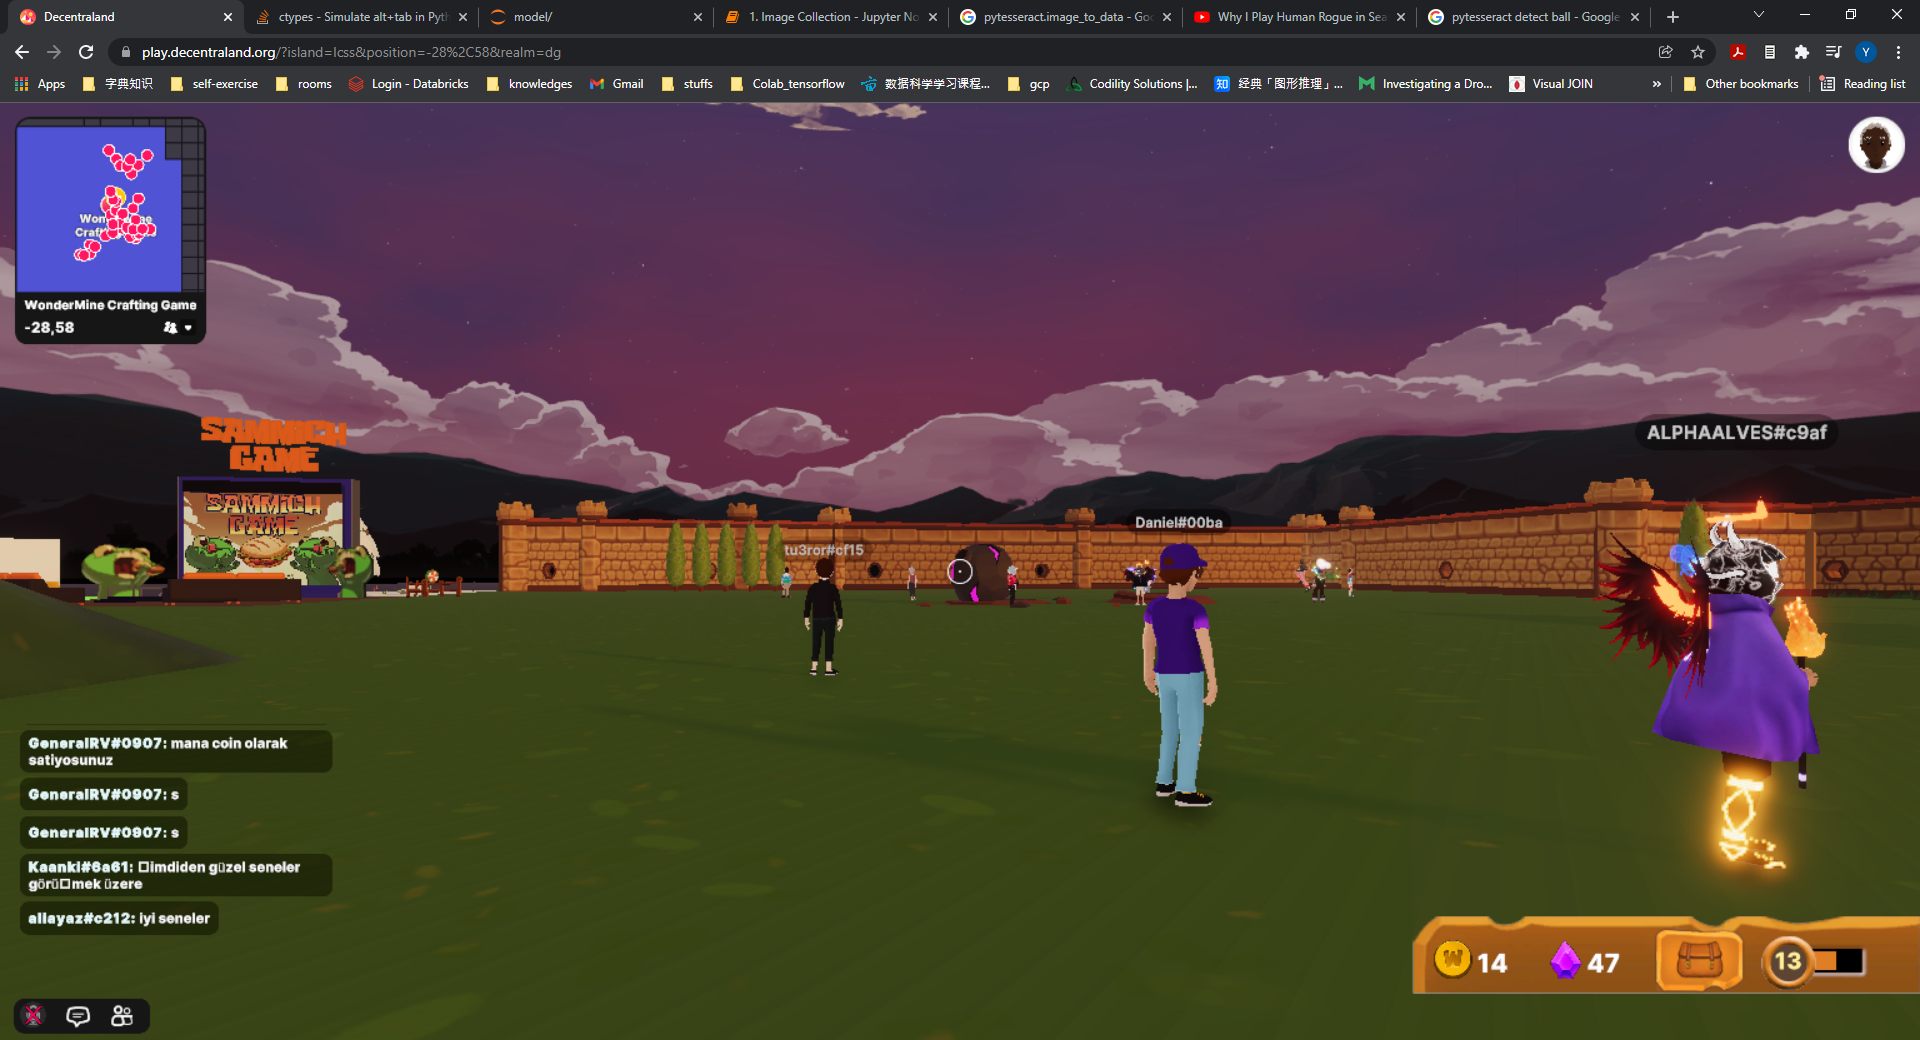black_ball: (937, 526, 1023, 612)
